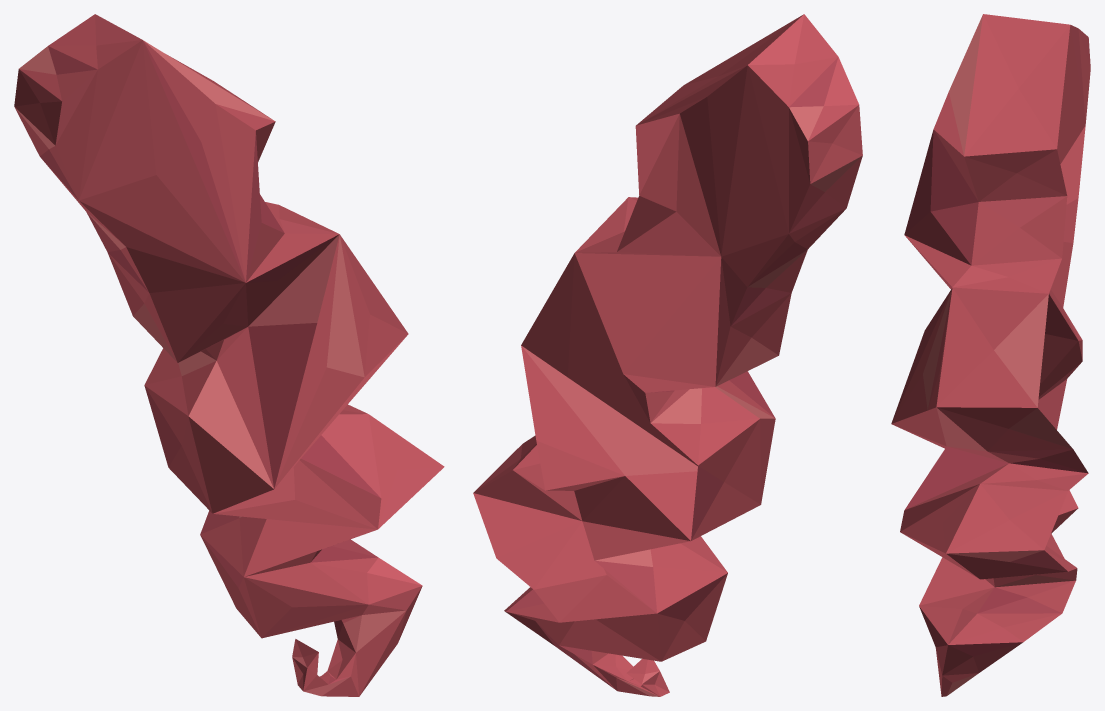
Rendered from twintail_right.glb.
3 renders of one model, left to right at view 1: azimuth 30°, elevation 25°; view 2: azimuth 150°, elevation 25°; view 3: azimuth 270°, elevation 25°, orthographic. The views are drawn at different scales.
Parts seen in each view (by area): view 1: Twin-tail • front-reference folded silhouette.R; view 2: Twin-tail • front-reference folded silhouette.R; view 3: Twin-tail • front-reference folded silhouette.R.
Part boxes in pixels (bbox=[...]): Twin-tail • front-reference folded silhouette.R: bbox=[14, 14, 444, 696]; Twin-tail • front-reference folded silhouette.R: bbox=[473, 14, 862, 696]; Twin-tail • front-reference folded silhouette.R: bbox=[891, 14, 1090, 696].
Size of the model in its own units: 2.43 by 4.54 by 1.37.
